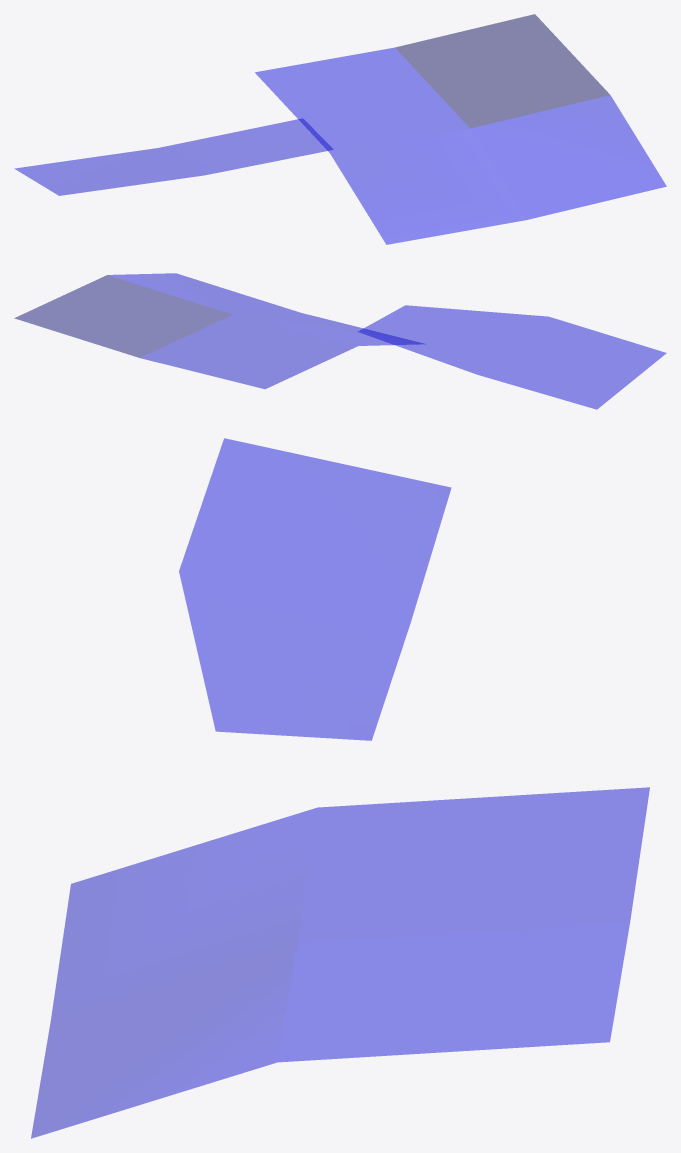
File: track_la_coll_road_32.fbx
The picture shows the model from 3 angles, top to bottom: view 1: azimuth 30°, elevation 25°; view 2: azimuth 150°, elevation 25°; view 3: azimuth 270°, elevation 25°; orthographic projection. The views are drawn at different scales.
Visible parts, largest first — view 1: track_la_coll_road_32; view 2: track_la_coll_road_32; view 3: track_la_coll_road_32.
Boxes of the visible parts, x1,y1,x2,y2 form: track_la_coll_road_32: [14, 14, 666, 244]; track_la_coll_road_32: [14, 273, 666, 409]; track_la_coll_road_32: [31, 438, 649, 1138].
Size of the model in its own units: 56.59 by 8.87 by 27.26.
